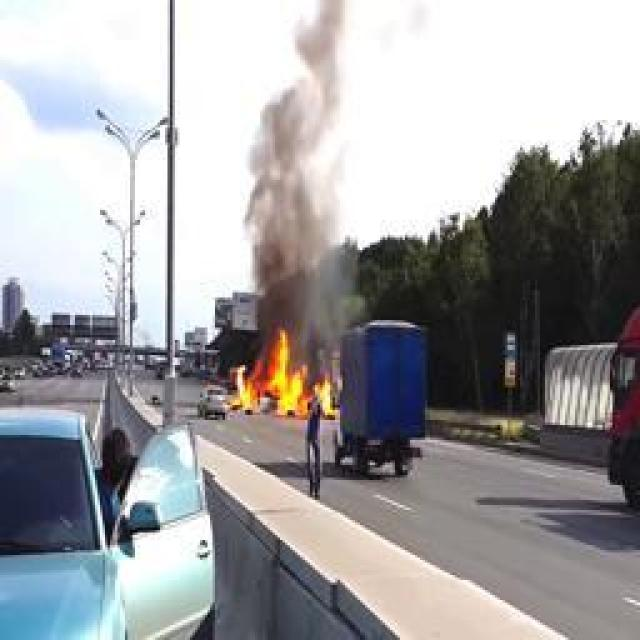Fire: (231, 329, 341, 419)
